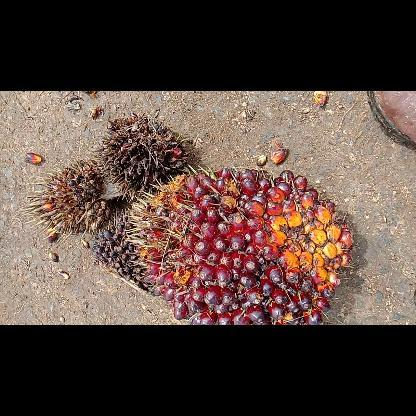TBS abnormal: (13, 156, 110, 240), (94, 113, 193, 190), (92, 207, 154, 295)
TBS masak: (124, 164, 356, 324)
